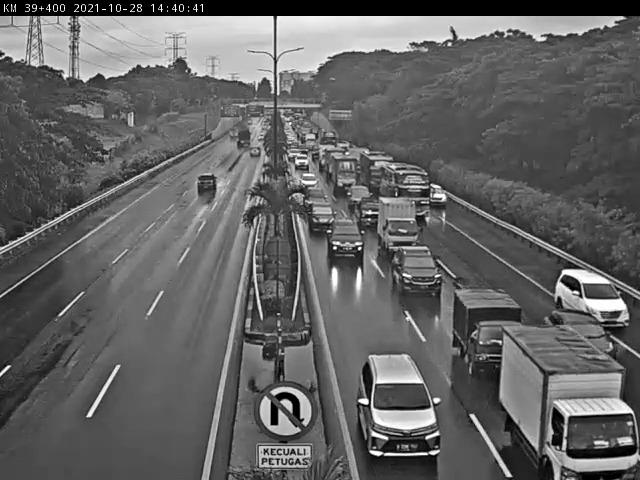big bus: (382, 164, 430, 221)
car: (358, 351, 440, 460), (557, 267, 630, 329), (544, 309, 615, 357), (392, 245, 442, 293), (326, 217, 363, 254), (308, 202, 335, 228), (346, 184, 372, 206), (195, 172, 219, 193), (359, 198, 379, 223), (304, 185, 328, 204)
small truck: (503, 335, 637, 480), (457, 289, 522, 369), (376, 196, 415, 248)
